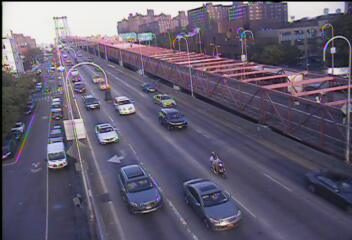neg: (202, 146, 230, 182), (137, 177, 145, 188)
